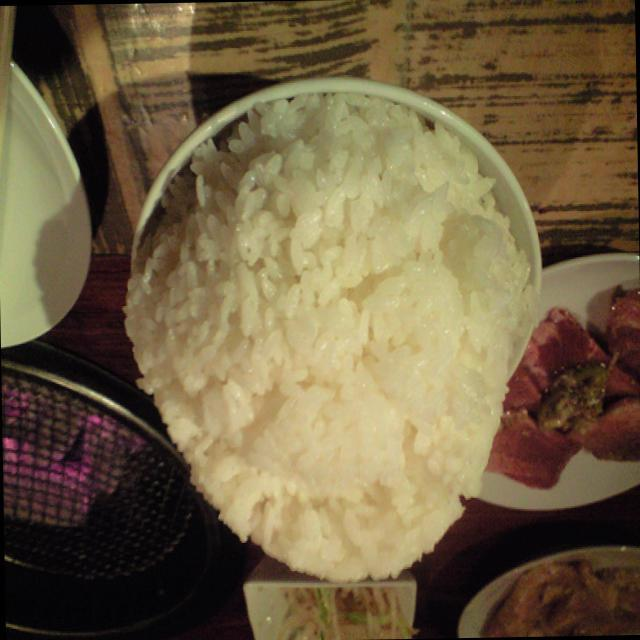Rice: (130, 123, 530, 584)
